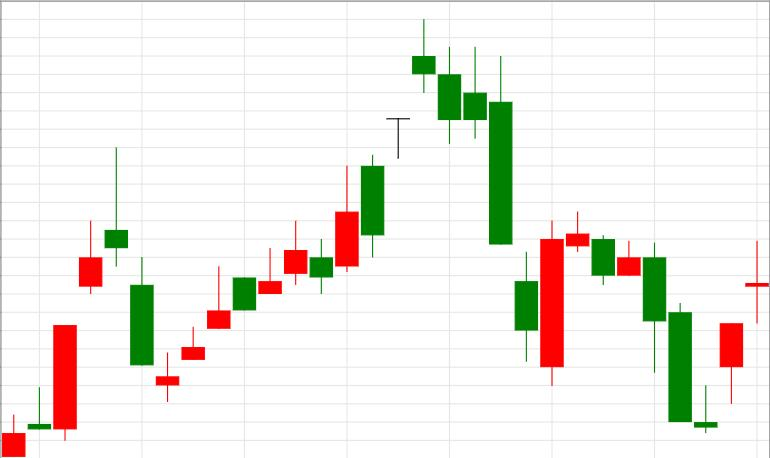bullish_engulfing_rise: (412, 19, 564, 387)
evening_star_fall: (2, 148, 154, 457)
morning_star_rise: (566, 212, 743, 434)
